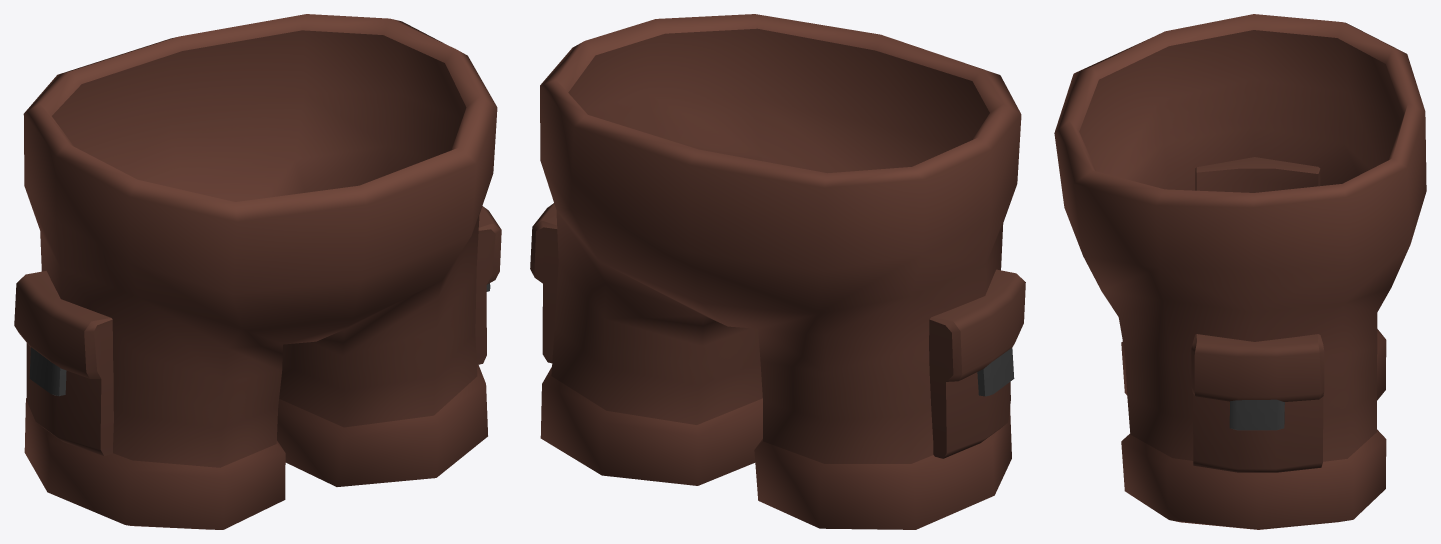
Rendered from bottom43.fbx.
3 views of the same model, side by side, from view 1: azimuth 30°, elevation 25°; view 2: azimuth 150°, elevation 25°; view 3: azimuth 270°, elevation 25° (orthographic). The views are drawn at different scales.
Visible parts, largest first — view 1: Bottom_43; view 2: Bottom_43; view 3: Bottom_43.
Part boxes in pixels (bbox=[...]): Bottom_43: bbox=[14, 14, 501, 529]; Bottom_43: bbox=[530, 14, 1025, 529]; Bottom_43: bbox=[1054, 14, 1426, 529].
Bounding box in the file's own units: 40.66 × 32.52 × 31.42.
